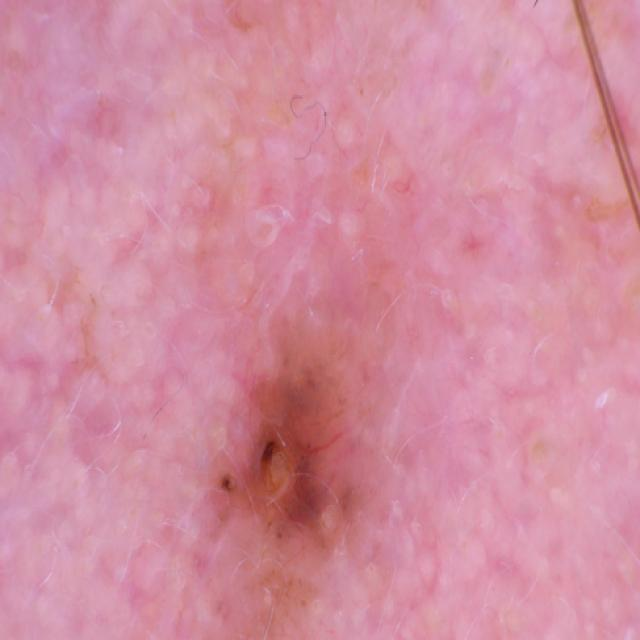Carcinoma: (204, 361, 427, 621)
